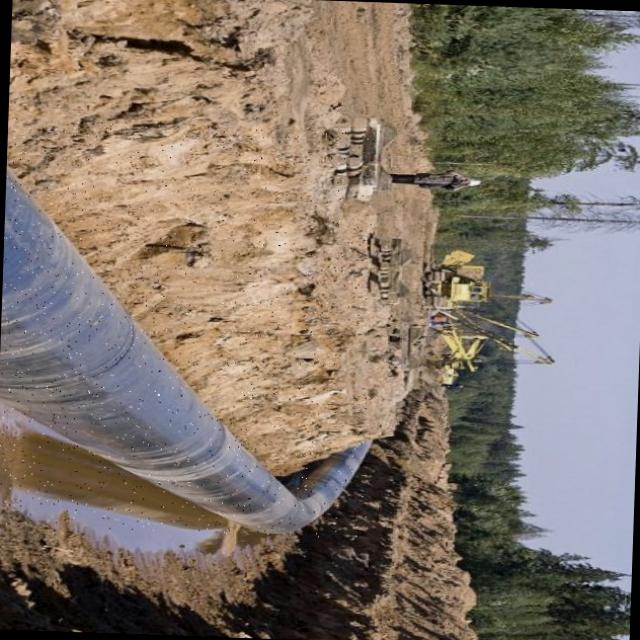gas: (0, 169, 366, 531)
